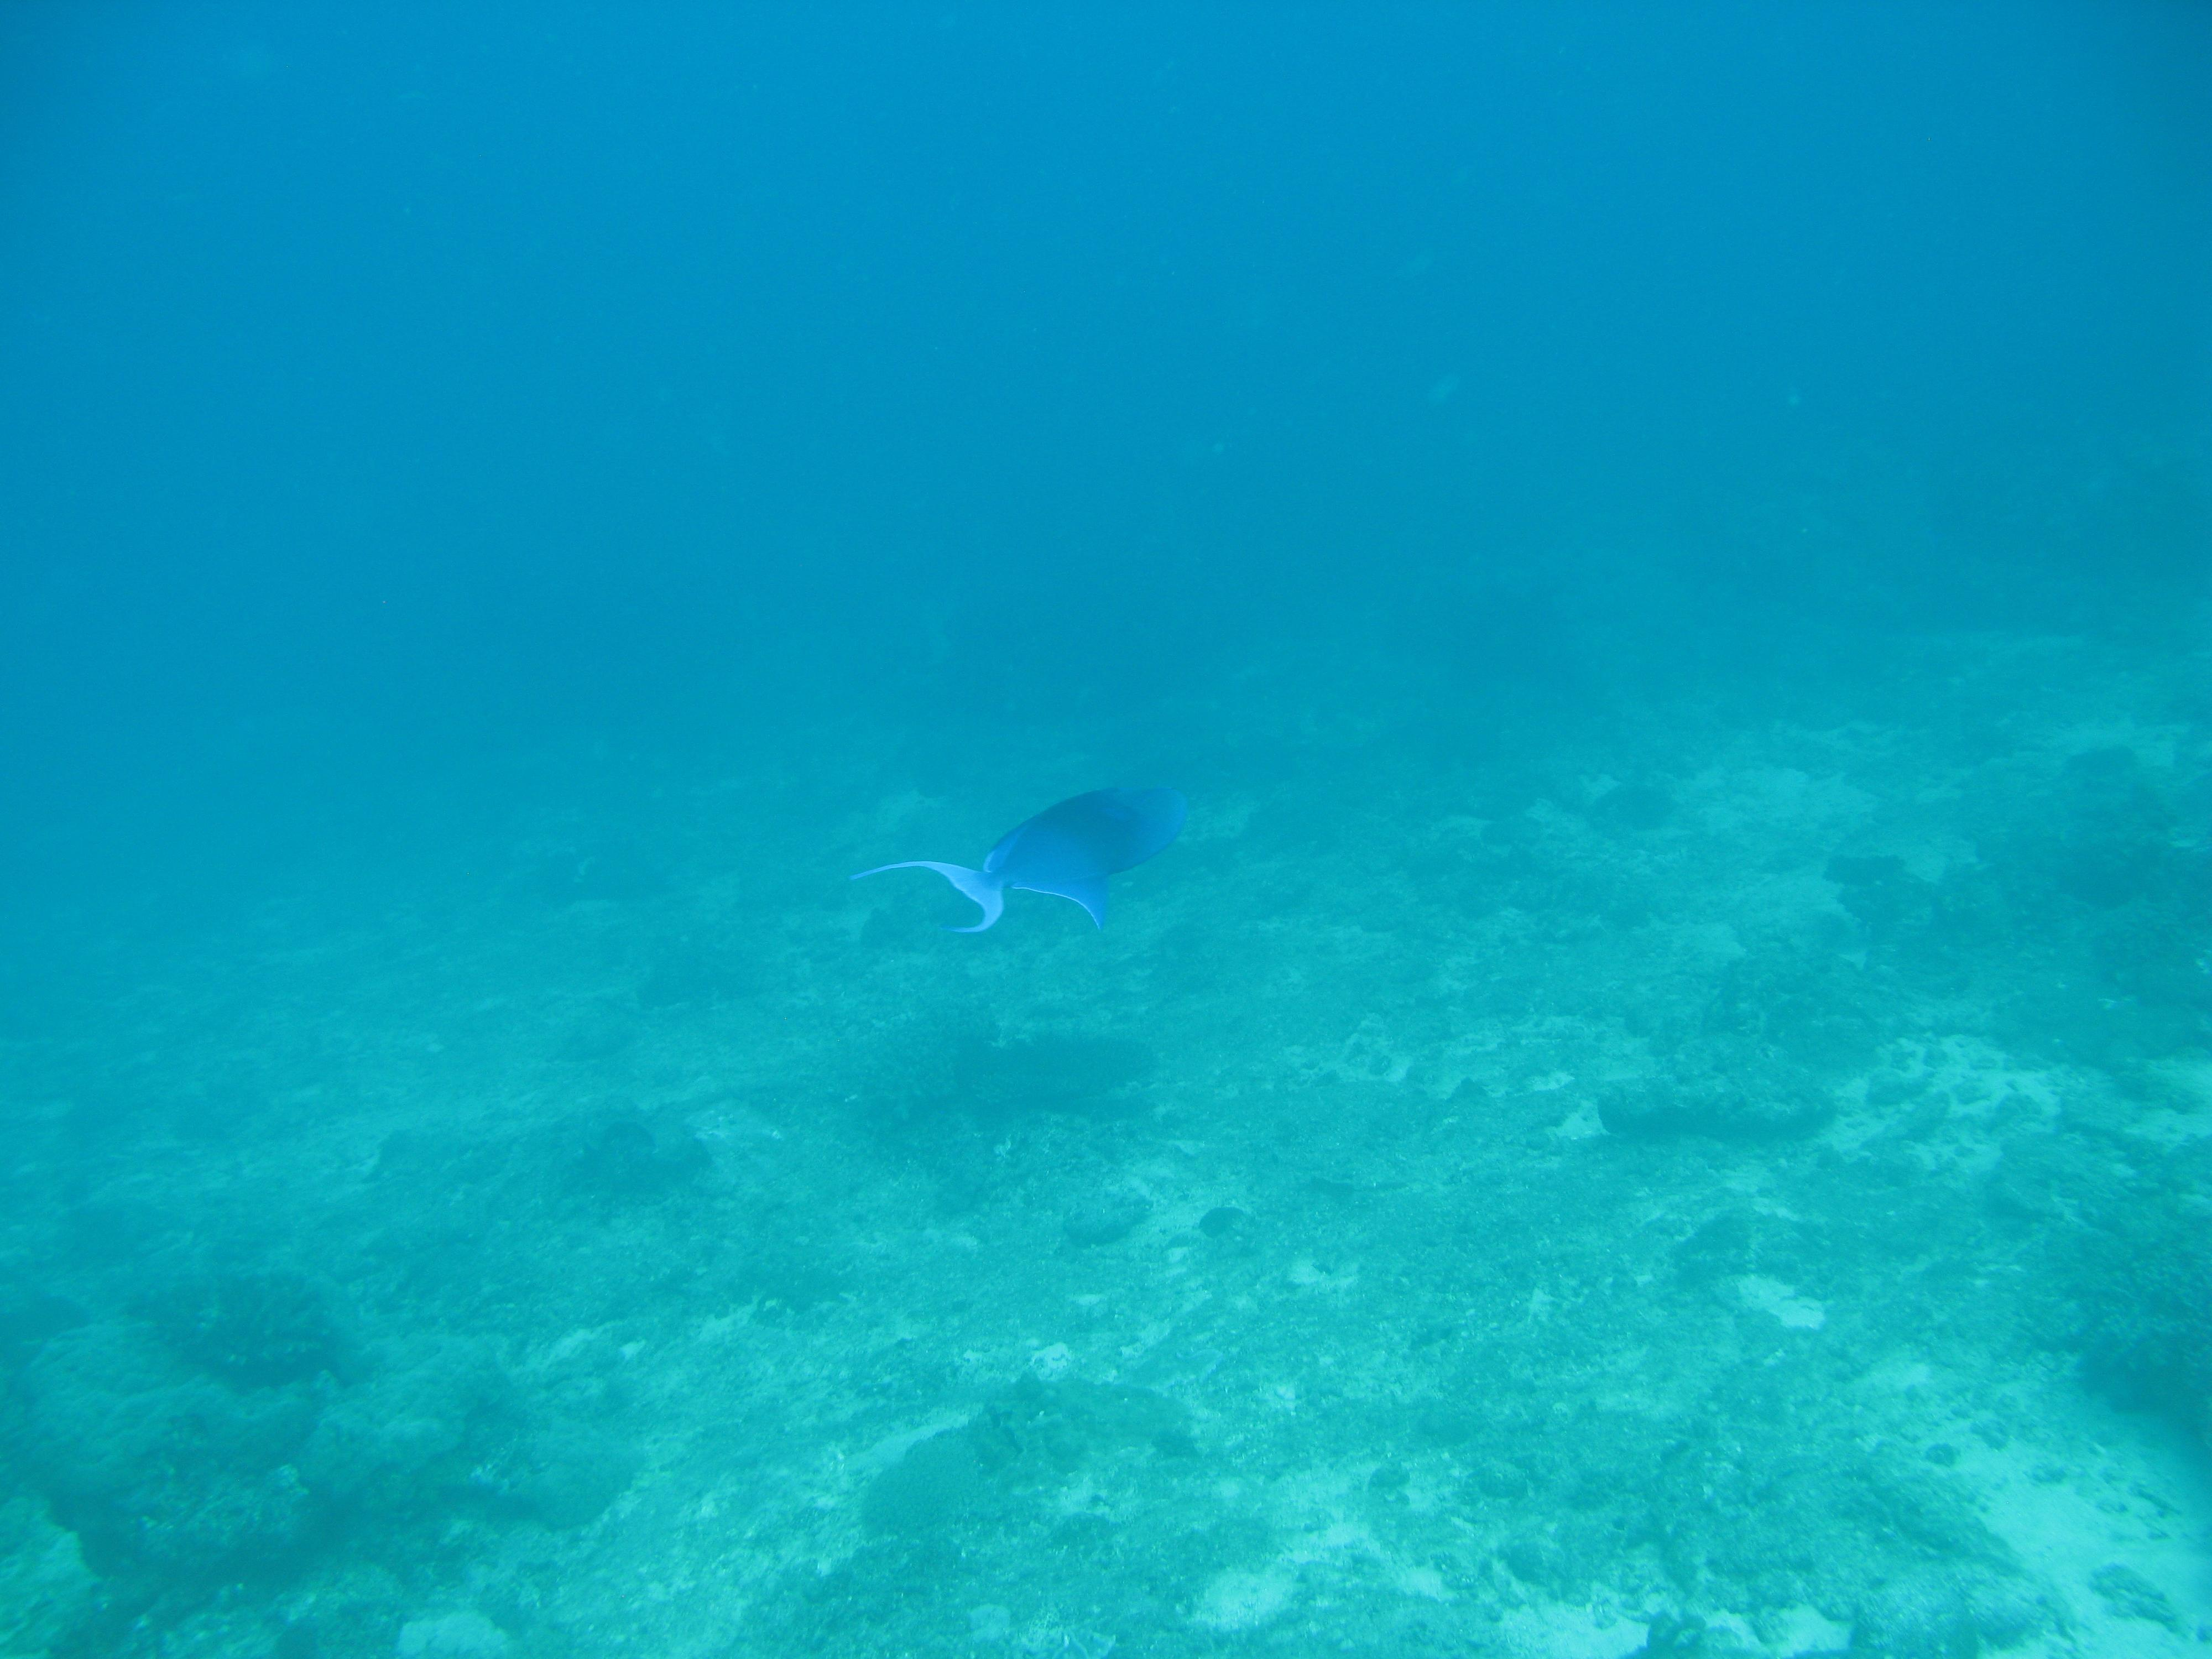Odonus niger: (775, 758, 1221, 1040)
